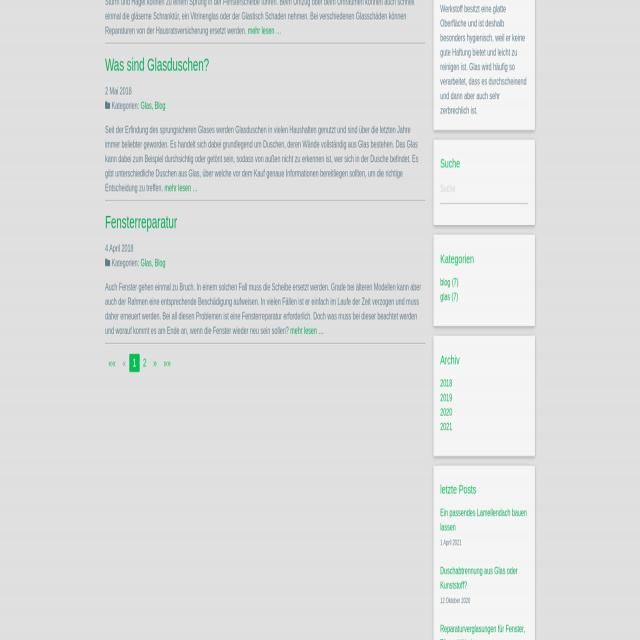button: (129, 355, 140, 372)
field: (440, 174, 528, 204)
